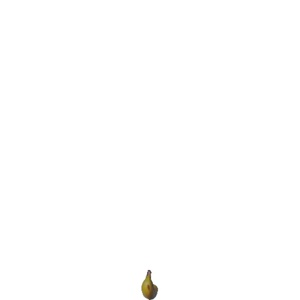banana: (139, 269, 158, 298)
